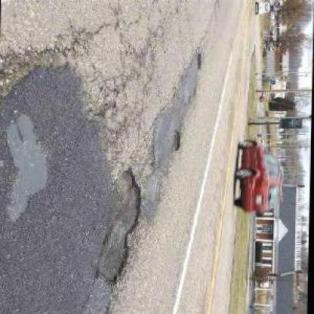Hueco: (94, 167, 142, 288), (170, 129, 184, 151), (196, 52, 205, 70)
